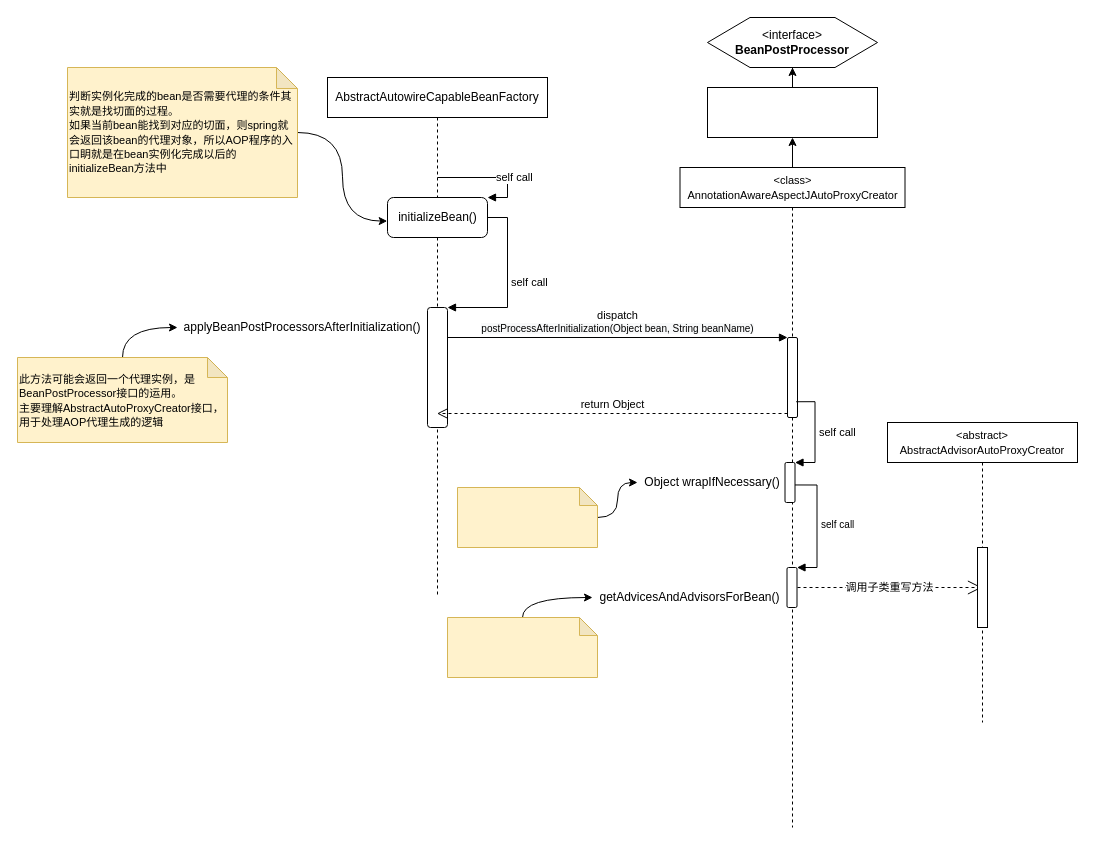
Image size: 1095x845. Some labels were removed from this diagram. The box of each missing label's shape, as (x1, y1, x2, y2) in pixels:
<abstract> AbstractAutoProxyCreator: (706, 86, 878, 138)
此方法判断当前的bean实例是否需要包装成代理实例: (456, 486, 598, 548)
给当前的bean寻找advisor切面，如果这个bean有advice的话，则代表后面需要创建当前bean的代理: (446, 616, 598, 678)
